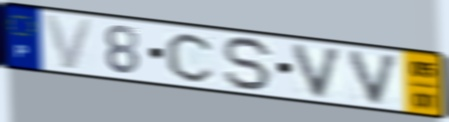8: (104, 23, 141, 75)
C: (163, 30, 218, 84)
S: (221, 35, 276, 93)
V: (345, 48, 404, 108), (289, 42, 348, 101), (42, 12, 97, 71)
